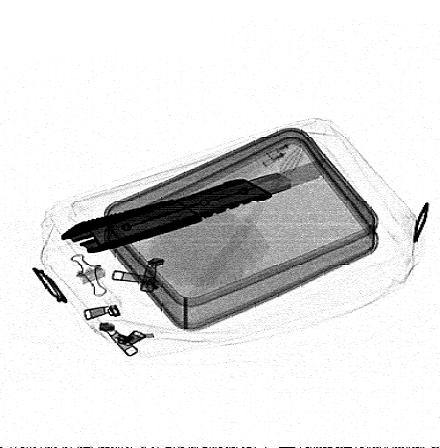Knife: (59, 156, 326, 254)
